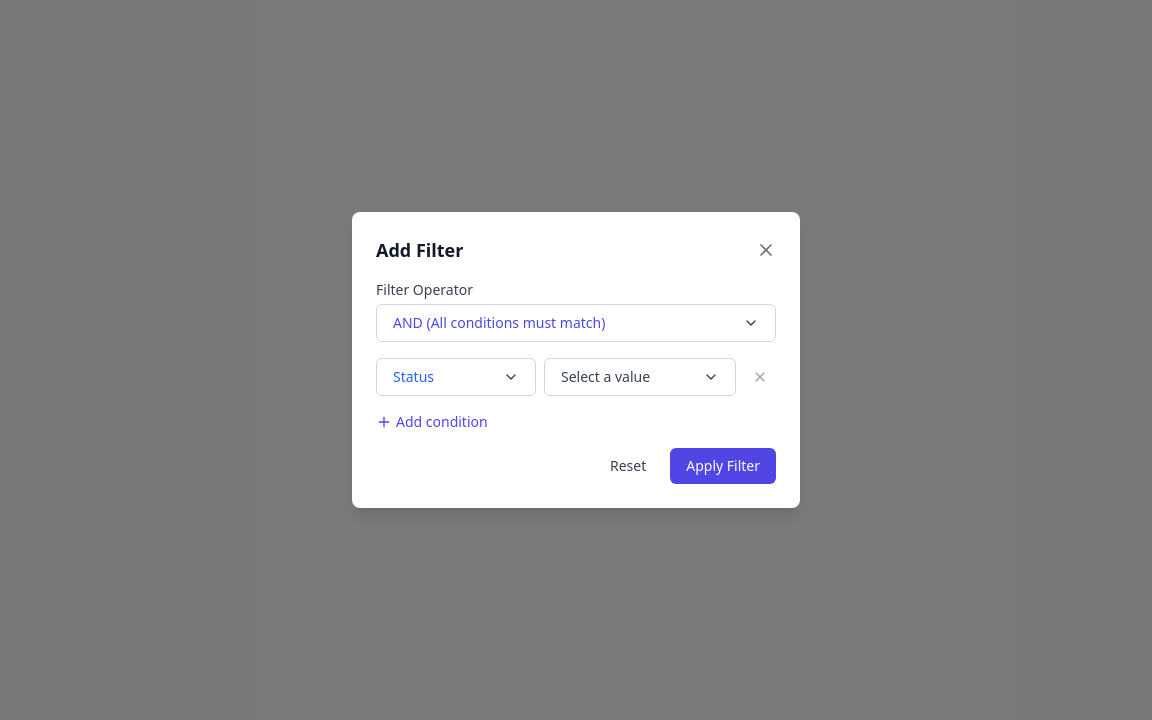
Test: ServiceFilterDialog › should reset form when Reset button is clicked
Note: Change operator to NOT
Click the button "AND (All conditions must match)".
click(576, 323)  # box x1=376 y1=304 x2=776 y2=342
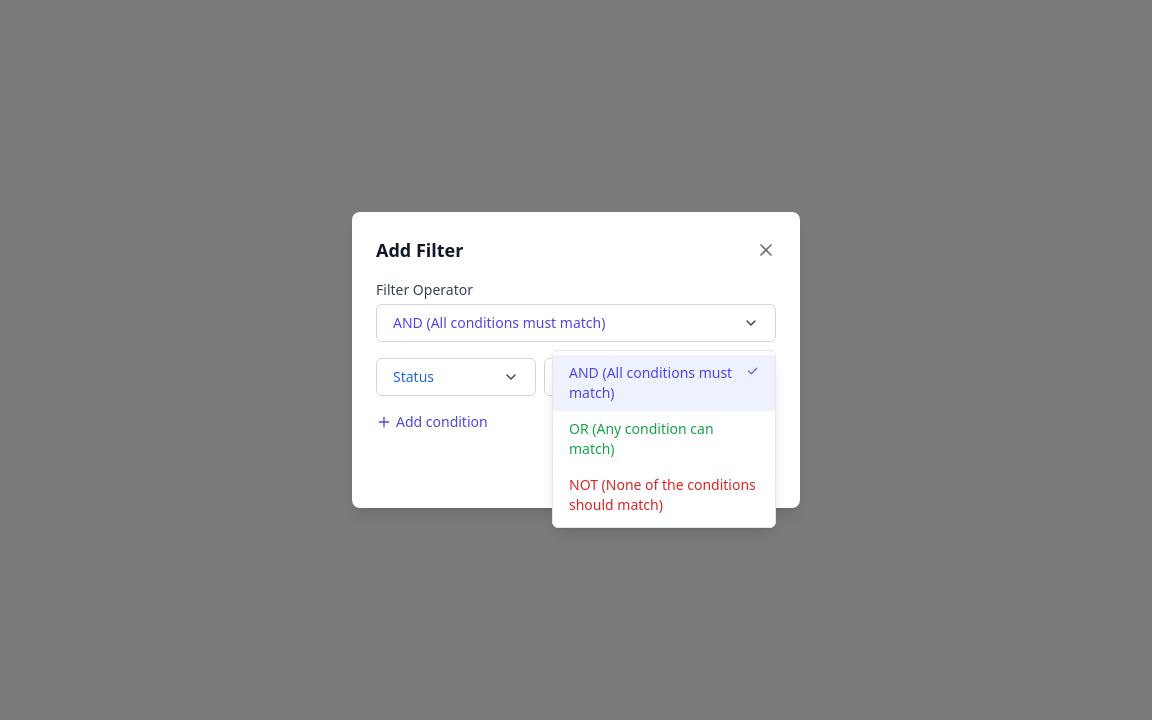
Click the menu item with test id "dropdown-option-NOT".
click(664, 495)  # box x1=553 y1=467 x2=775 y2=523
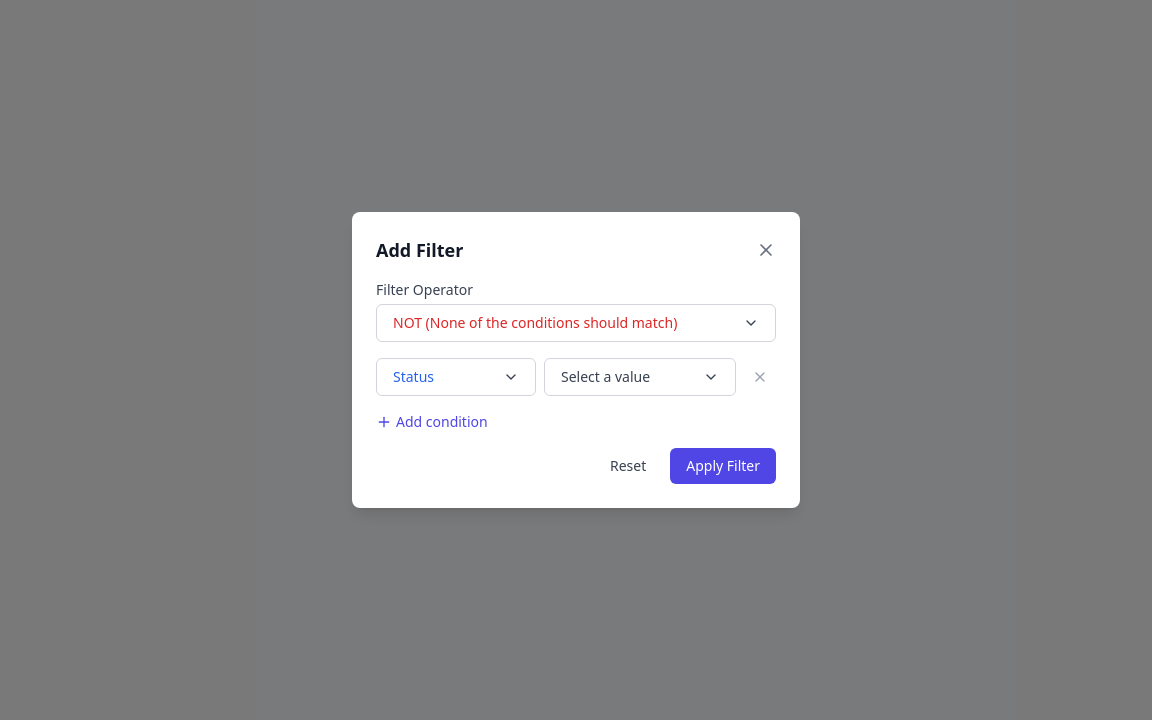
Note: Change field to health
Click the button "Status".
click(456, 377)  # box x1=376 y1=358 x2=536 y2=396
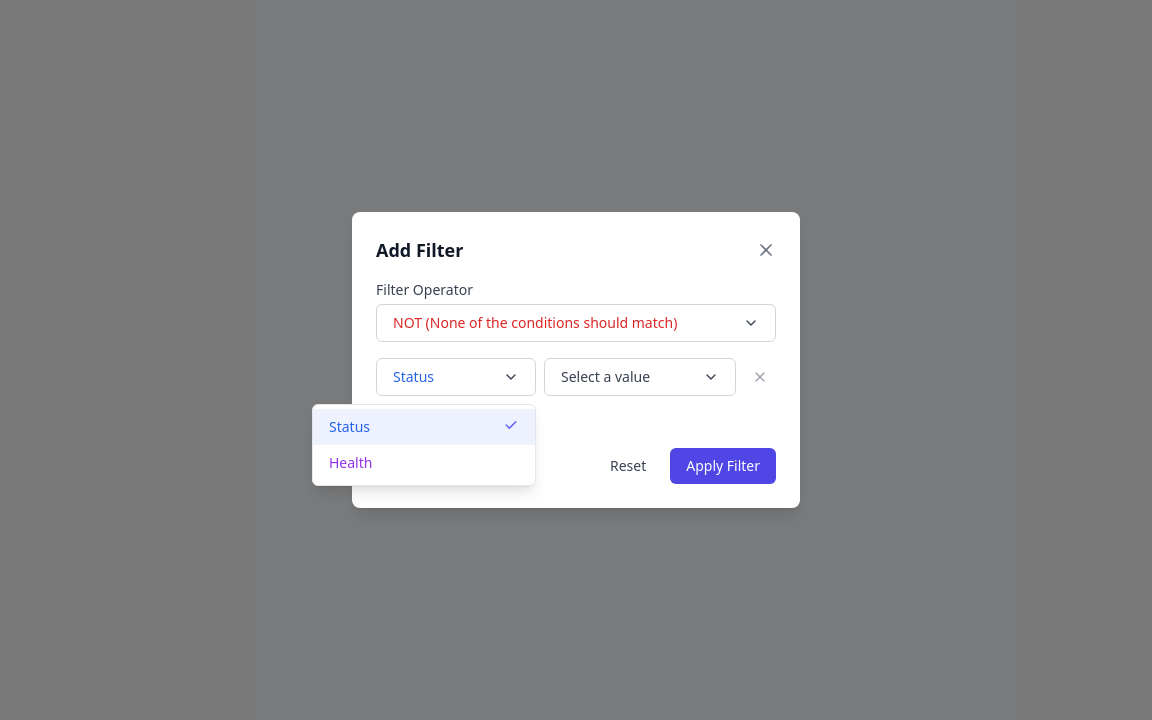
Click the menu item with test id "dropdown-option-health".
click(424, 463)  # box x1=313 y1=445 x2=535 y2=481
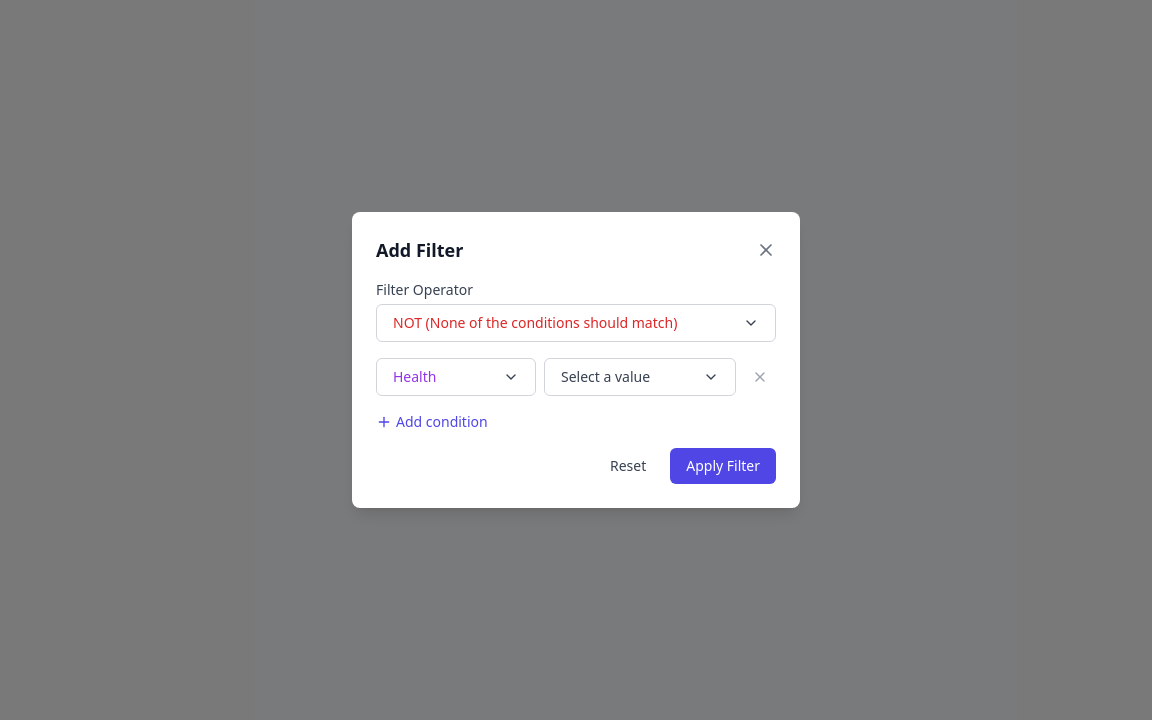
Note: Add another condition
Click the button "Add condition".
click(432, 422)  # box x1=376 y1=412 x2=488 y2=432
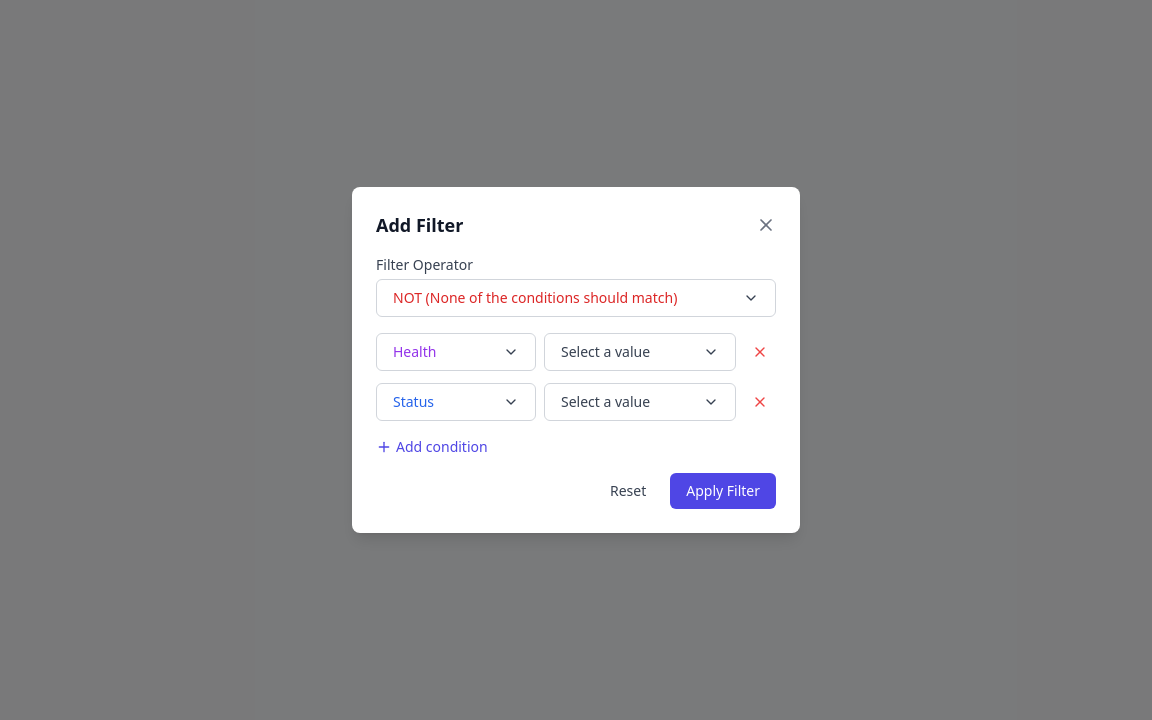
Note: Click reset button
Click the button "Reset".
click(628, 491)  # box x1=594 y1=473 x2=662 y2=509
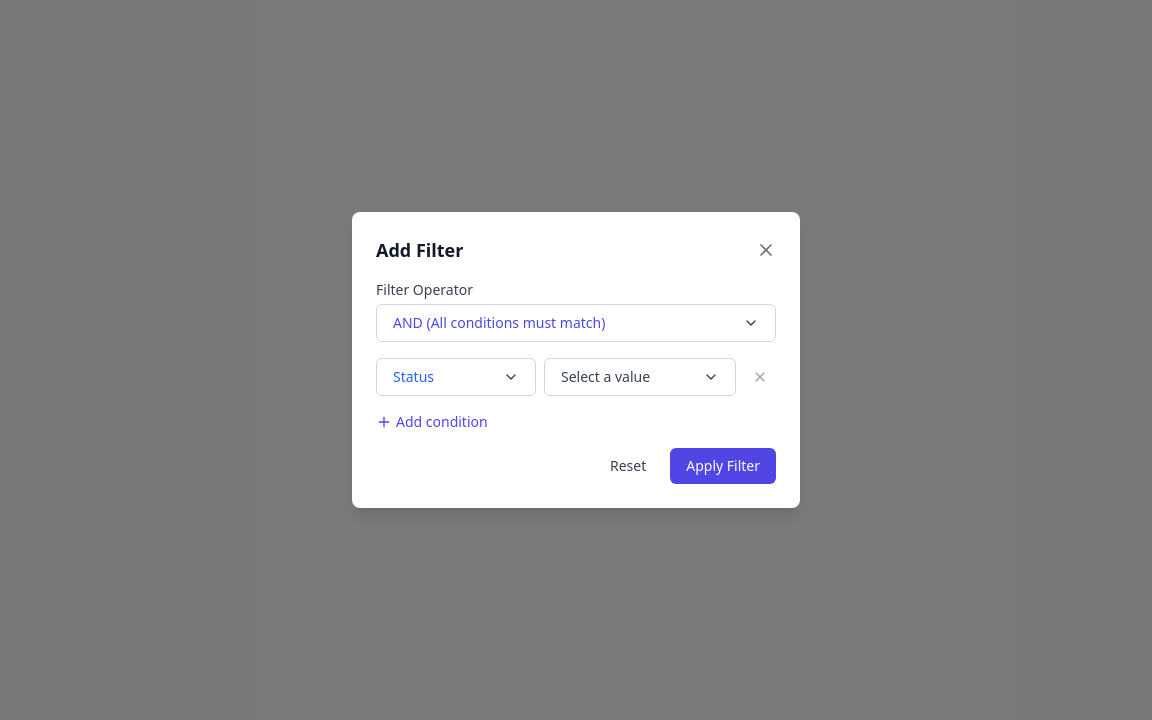
Check: the button "AND (All conditions must match)" is shown, box x1=376 y1=304 x2=776 y2=342
